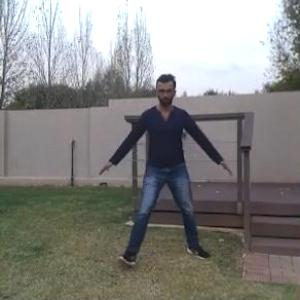land: (100, 72, 219, 277)
